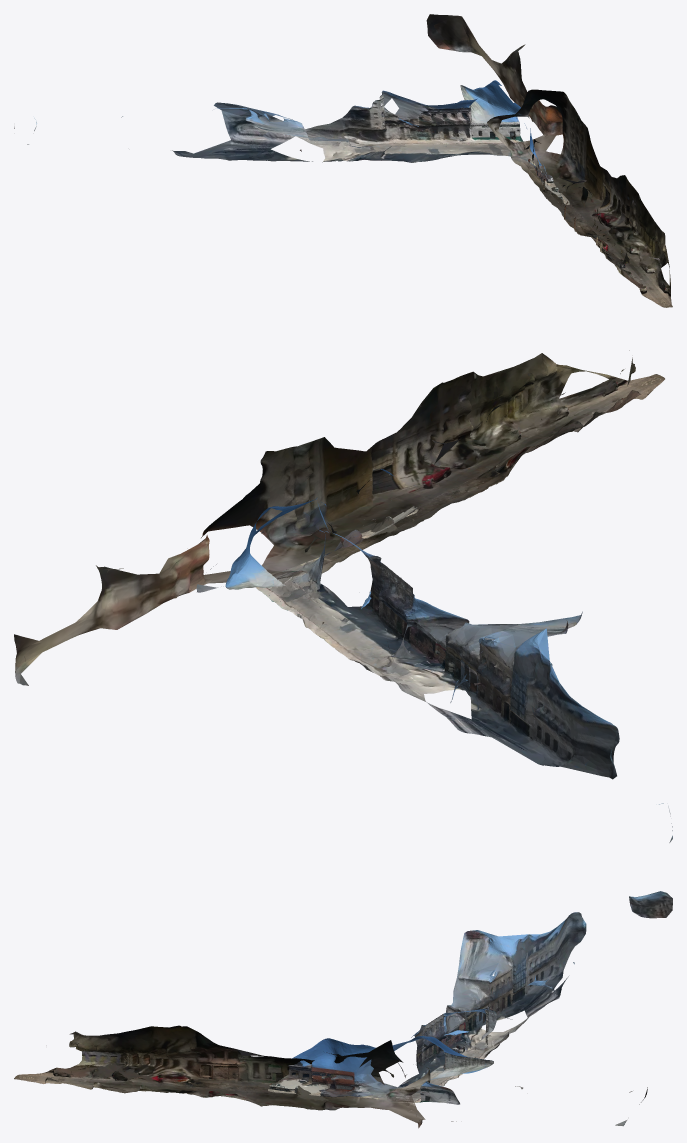
File: calle.glb
3 views of the same model, one above another, from view 1: azimuth 30°, elevation 25°; view 2: azimuth 150°, elevation 25°; view 3: azimuth 270°, elevation 25° (orthographic). The views are drawn at different scales.
Parts seen in each view (by area): view 1: Mesh_0.001; view 2: Mesh_0.001; view 3: Mesh_0.001.
Boxes of the visible parts, x1,y1,x2,y2 form: Mesh_0.001: (14, 14, 672, 307); Mesh_0.001: (14, 350, 672, 842); Mesh_0.001: (14, 891, 672, 1128).
Size of the model in its own units: 13.9 by 2.04 by 18.38.
Materials: 2 (2 with a texture image).
